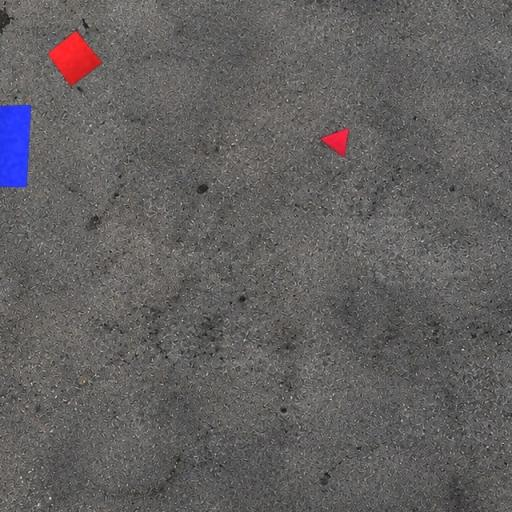RED_SQUARE: (46, 30, 104, 88)
